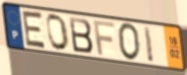B: (68, 16, 95, 55)
E: (21, 9, 48, 51)
F: (92, 19, 116, 57)
I: (142, 24, 156, 64)
O: (116, 22, 142, 63), (45, 13, 70, 52)
